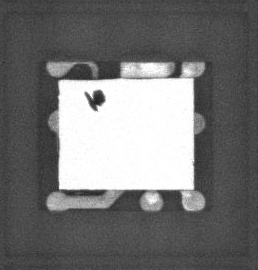DIE_INK: (80, 93, 100, 116)
